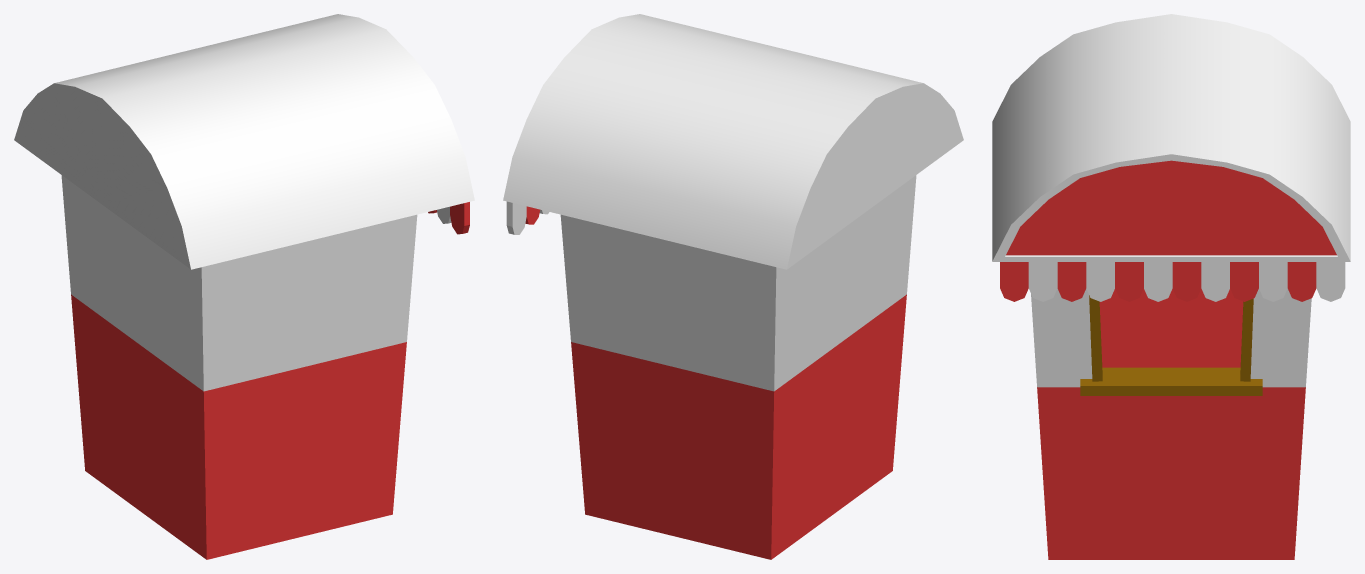
Rendered from barraca1.fbx.
3 renders of one model, left to right at view 1: azimuth 30°, elevation 25°; view 2: azimuth 150°, elevation 25°; view 3: azimuth 270°, elevation 25°, orthographic.
Parts seen in each view (by area): view 1: barracaDois; view 2: barracaDois; view 3: barracaDois.
Boxes of the visible parts, bbox=[...] form: barracaDois: bbox=[14, 14, 474, 559]; barracaDois: bbox=[503, 14, 963, 559]; barracaDois: bbox=[992, 14, 1350, 559].
Bounding box in the file's own units: 141 × 203 × 152.
